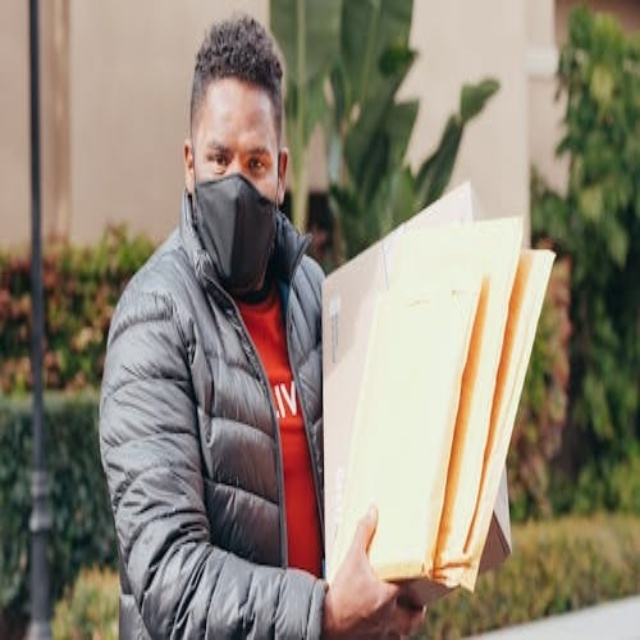Mascara: (193, 170, 278, 292)
Sin_gafas: (209, 152, 229, 168), (246, 156, 266, 172)
Sin_guantes: (326, 500, 428, 640)
